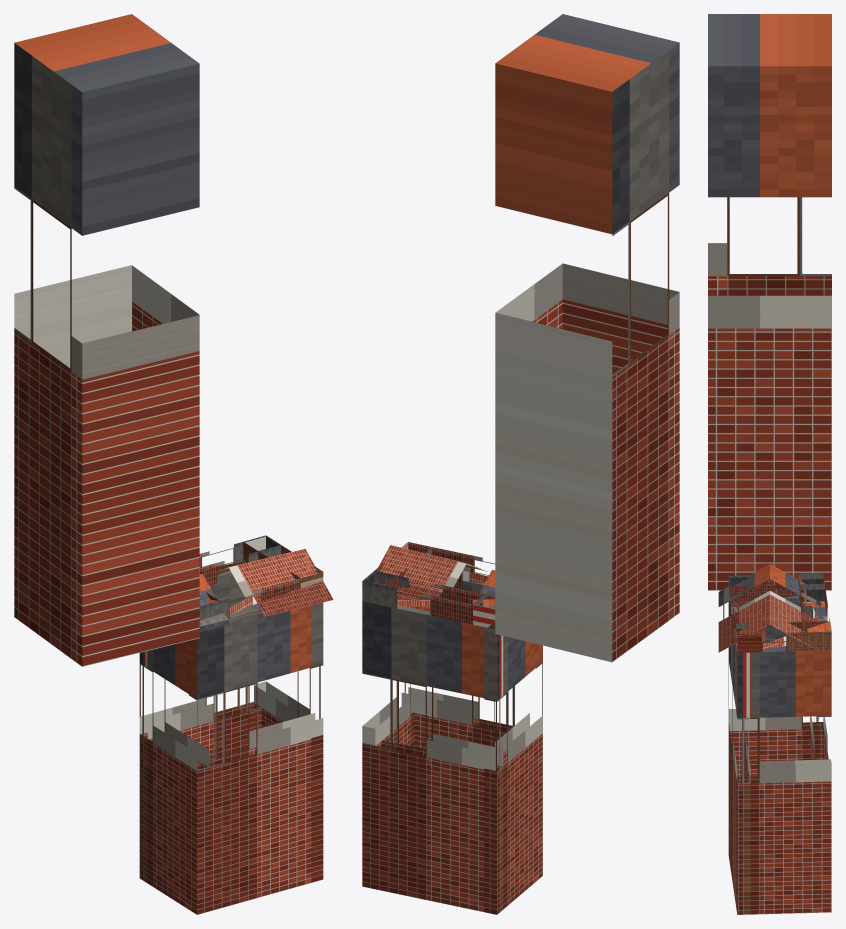
3 renders of one model, left to right at view 1: azimuth 30°, elevation 25°; view 2: azimuth 150°, elevation 25°; view 3: azimuth 270°, elevation 25°, orthographic. The views are drawn at different scales.
Visible parts, largest first — view 1: 534916373__chimney_0_xb, 534916373__wall_0_xb, 534916373__wall_3_xb, 534916373__wall_2_xb, 534916373_roof_-1_xb, 534916373__wall_1_xb, 534916373__cornice_0, 534916373__cornice_2, 534916373__cornice_1; view 2: 534916373__chimney_0_xb, 534916373__wall_2_xb, 534916373__wall_3_xb, 534916373__wall_0_xb, 534916373_roof_1_xb, 534916373__cornice_2, 534916373__wall_1_xb, 534916373__cornice_0; view 3: 534916373__chimney_0_xb, 534916373__wall_1_xb, 534916373__wall_0_xb, 534916373__wall_3_xb, 534916373_roof_-1_xb, 534916373_roof_1_xb, 534916373__cornice_1, 534916373__cornice_3, 534916373__cornice_0, 534916373__wall_2_xb, 534916373__cornice_2.
Boxes of the visible parts, left/top/right/bottom form: 534916373__chimney_0_xb: left=14, top=14, right=199, bottom=666; 534916373__wall_0_xb: left=189, top=603, right=323, bottom=914; 534916373__wall_3_xb: left=139, top=639, right=209, bottom=914; 534916373__wall_2_xb: left=139, top=570, right=261, bottom=883; 534916373_roof_-1_xb: left=199, top=548, right=333, bottom=632; 534916373__wall_1_xb: left=254, top=602, right=323, bottom=882; 534916373__cornice_0: left=199, top=578, right=300, bottom=620; 534916373__cornice_2: left=199, top=535, right=280, bottom=585; 534916373__cornice_1: left=243, top=536, right=323, bottom=588; 534916373__chimney_0_xb: left=495, top=14, right=679, bottom=662; 534916373__wall_2_xb: left=362, top=601, right=503, bottom=914; 534916373__wall_3_xb: left=484, top=627, right=542, bottom=914; 534916373__wall_0_xb: left=401, top=581, right=542, bottom=749; 534916373_roof_1_xb: left=374, top=545, right=495, bottom=612; 534916373__cornice_2: left=362, top=571, right=495, bottom=629; 534916373__wall_1_xb: left=362, top=684, right=414, bottom=746; 534916373__cornice_0: left=408, top=542, right=494, bottom=586; 534916373__chimney_0_xb: left=708, top=14, right=831, bottom=590; 534916373__wall_1_xb: left=736, top=646, right=831, bottom=914; 534916373__wall_0_xb: left=728, top=601, right=750, bottom=914; 534916373__wall_3_xb: left=728, top=595, right=823, bottom=777; 534916373_roof_-1_xb: left=718, top=564, right=769, bottom=652; 534916373_roof_1_xb: left=770, top=564, right=821, bottom=652; 534916373__cornice_1: left=735, top=621, right=831, bottom=652; 534916373__cornice_3: left=730, top=573, right=824, bottom=604; 534916373__cornice_0: left=728, top=575, right=761, bottom=652; 534916373__wall_2_xb: left=810, top=602, right=831, bottom=759; 534916373__cornice_2: left=798, top=575, right=831, bottom=632.
Bounding box in the file's own units: 0.3281 × 1.05 × 0.15.
Materials: 1 (1 with a texture image).
